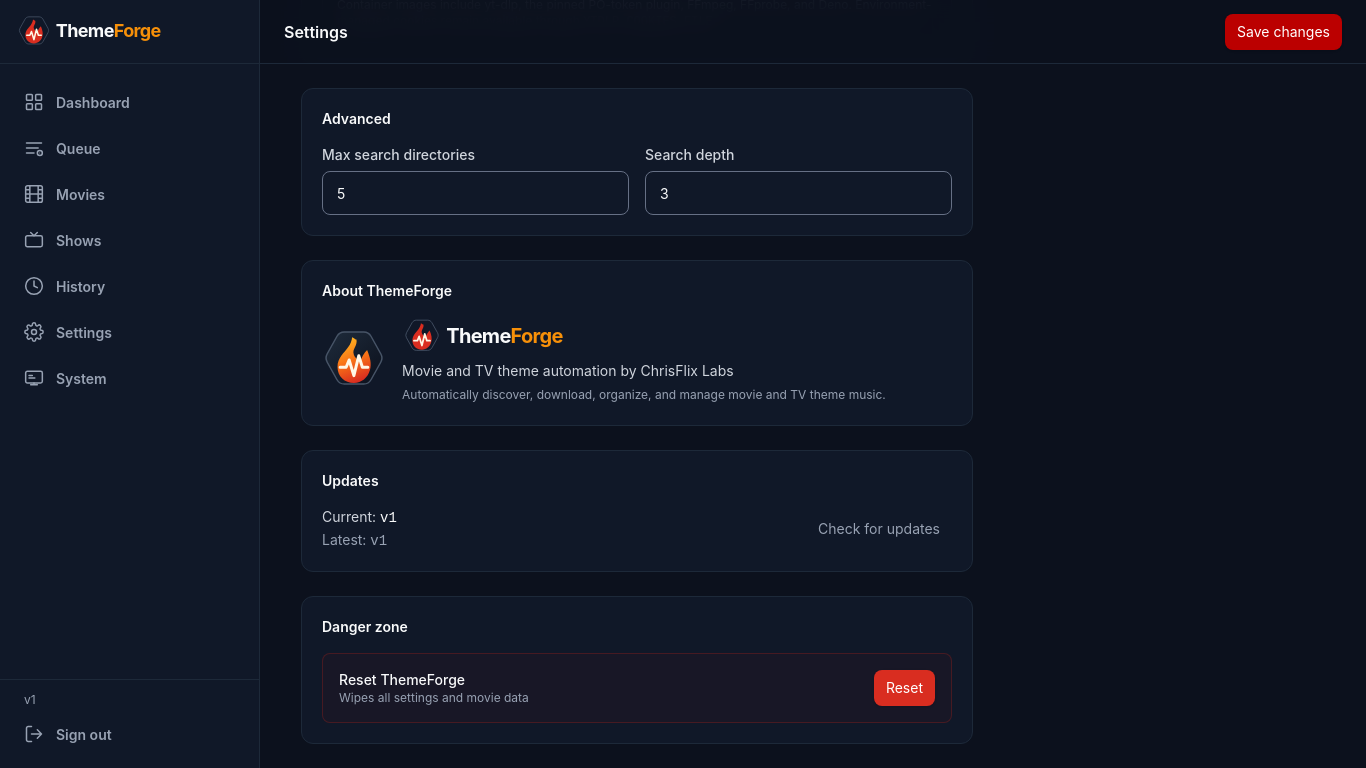
it: an action that fails does not report success › a failed "check for updates" says so instead of going quiet
The image size is (1366, 768).
(page scrolled)
What coordinates should you click on to do the following:
click the button "Check for updates"
I would click on:
 (879, 528)
Its box is [806, 510, 952, 546].
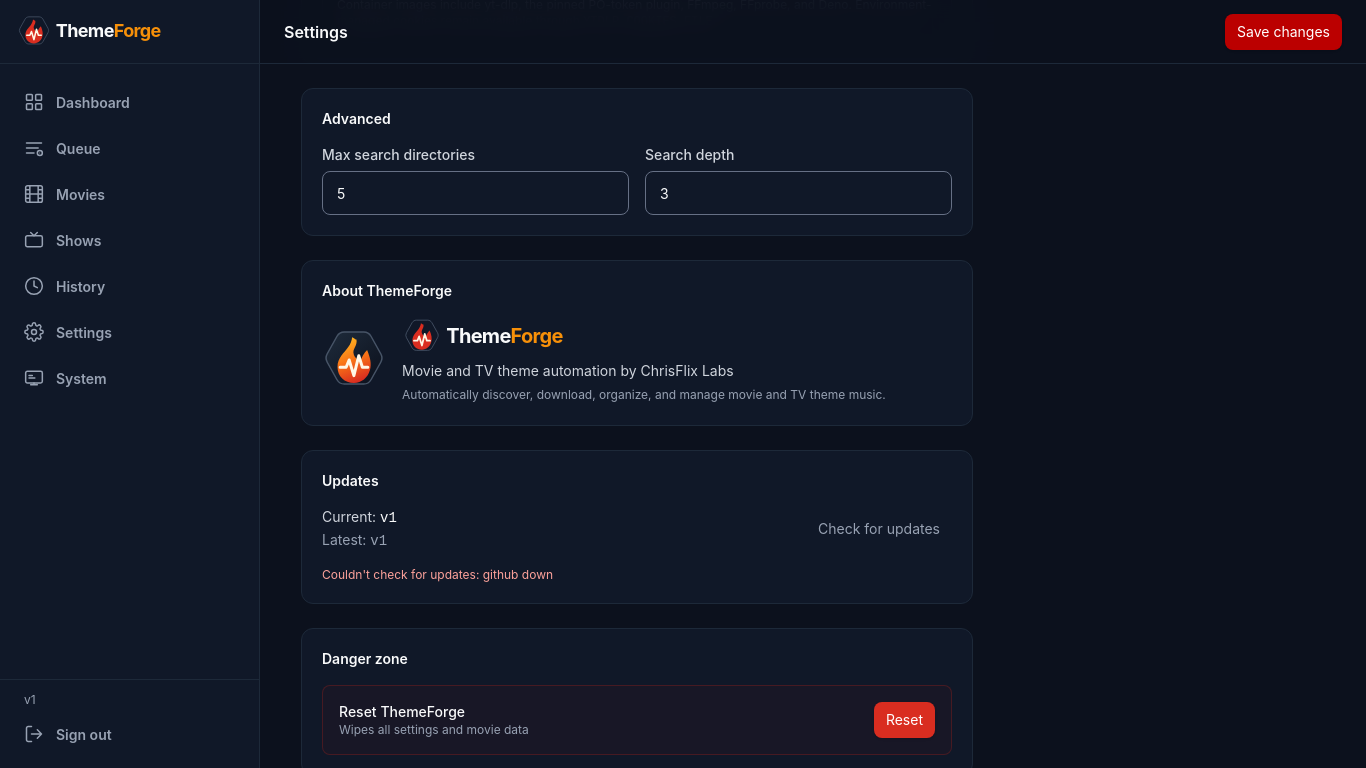
Check: the text "Couldn't check for updates: github down" is shown, box [322, 566, 553, 582]
